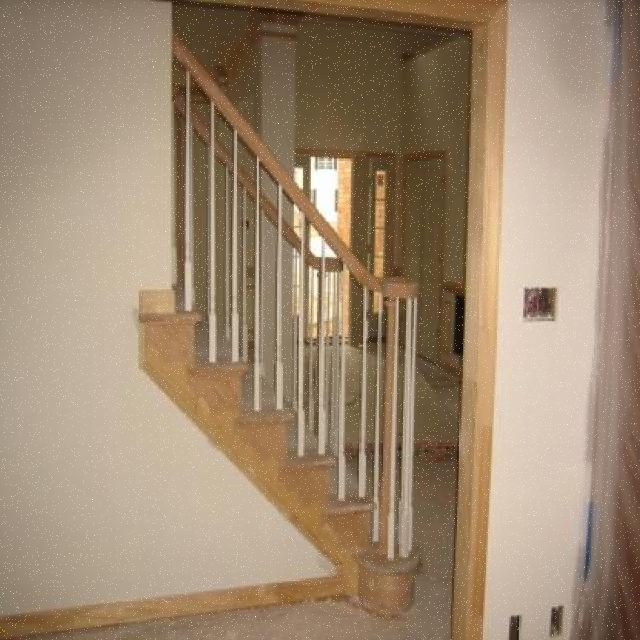stair: (140, 290, 425, 615)
